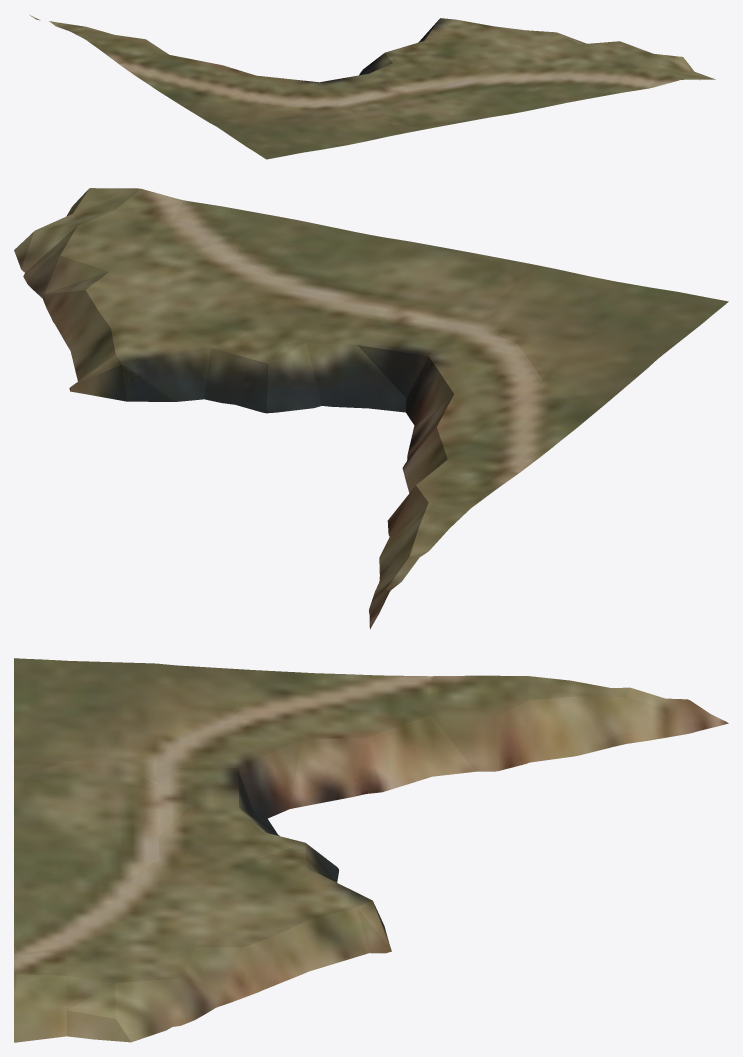
The picture shows the model from 3 angles, top to bottom: view 1: azimuth 30°, elevation 25°; view 2: azimuth 150°, elevation 25°; view 3: azimuth 270°, elevation 25°; orthographic projection. The views are drawn at different scales.
Bounding box in the file's own units: 46.37 × 4.42 × 43.88.
Materials: 1 (1 with a texture image).
